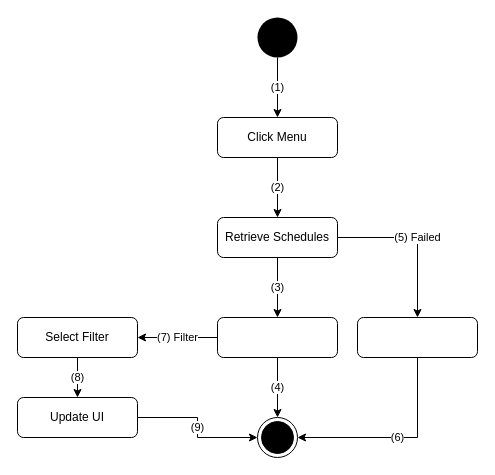
The diagram is 495 pixels wide and 475 high, and some of its shapes have lost their labels. Here are the shapes that lost their labels. From the top down, the centre of each, then its label:
At (x=277, y=337): "Display Calendar".
At (x=417, y=337): "Show Error".
